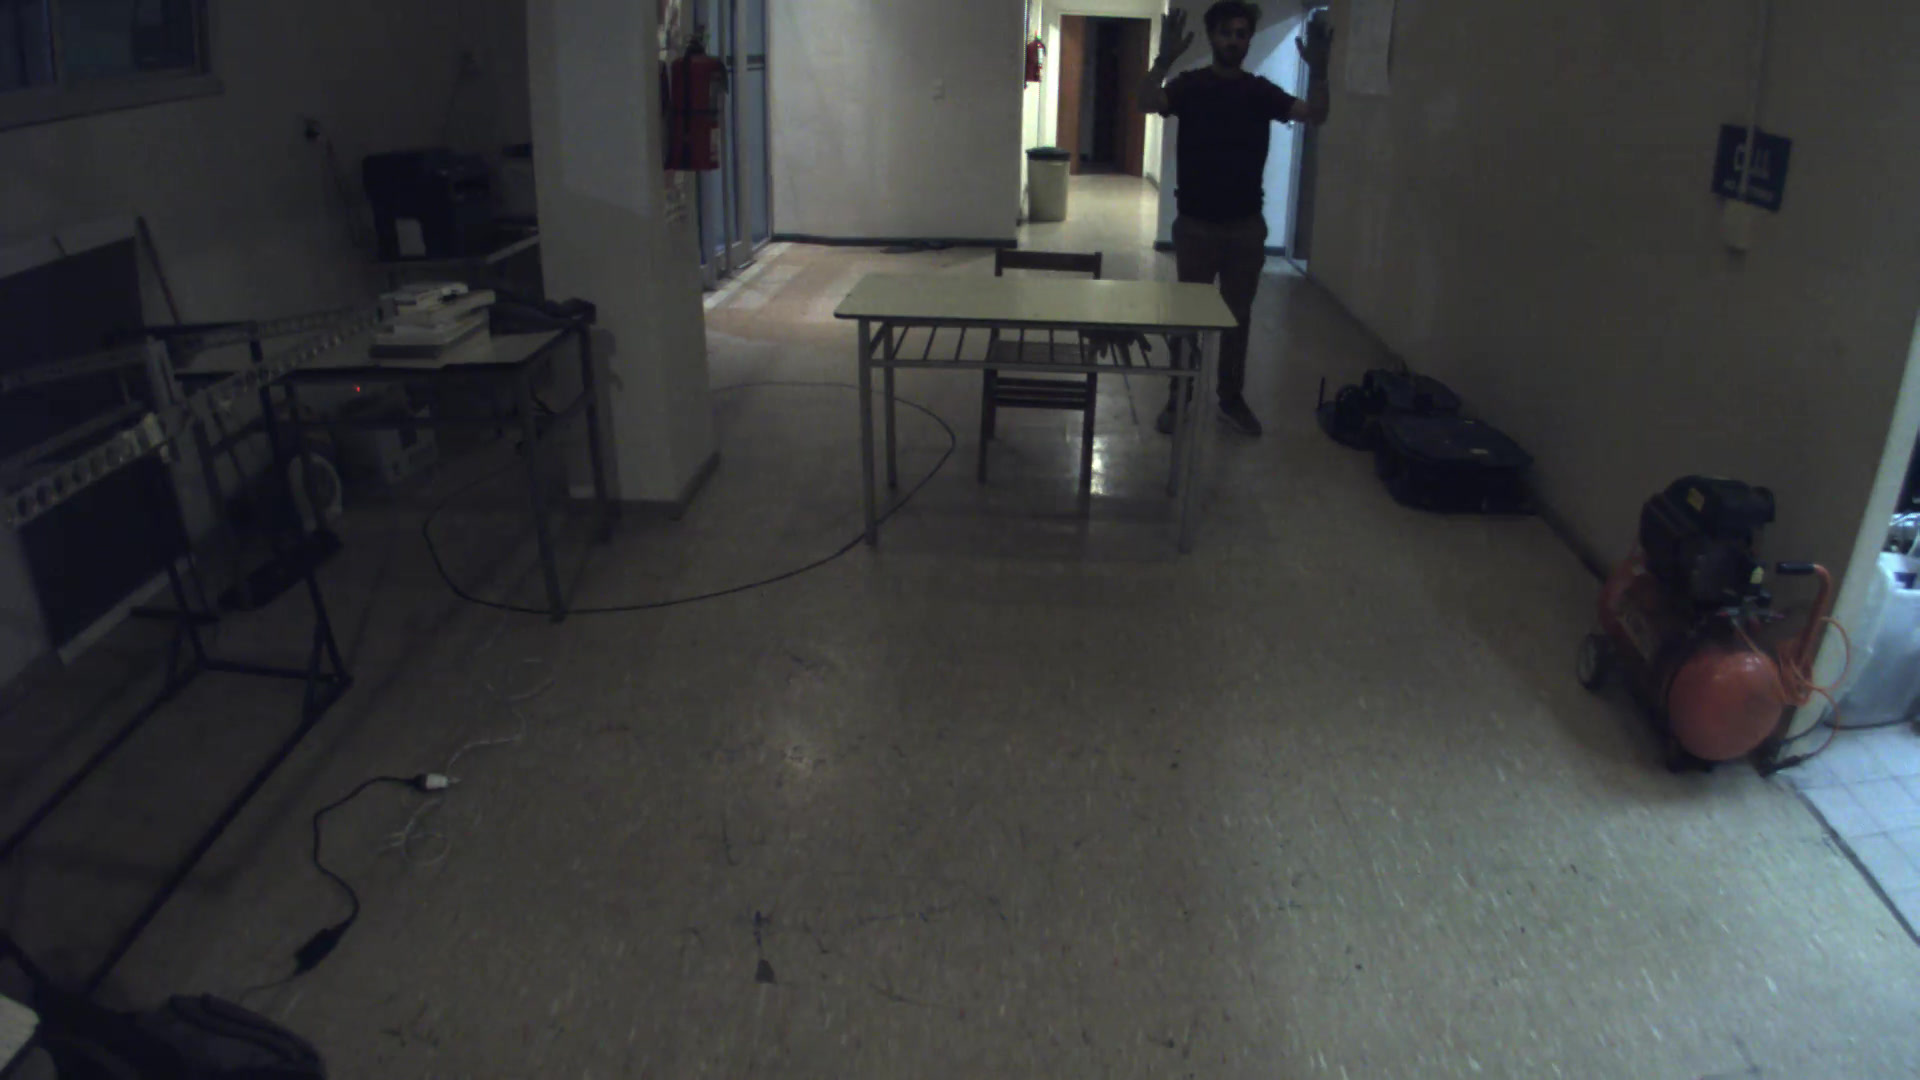hand: (1153, 3, 1215, 76), (1286, 5, 1333, 73)
